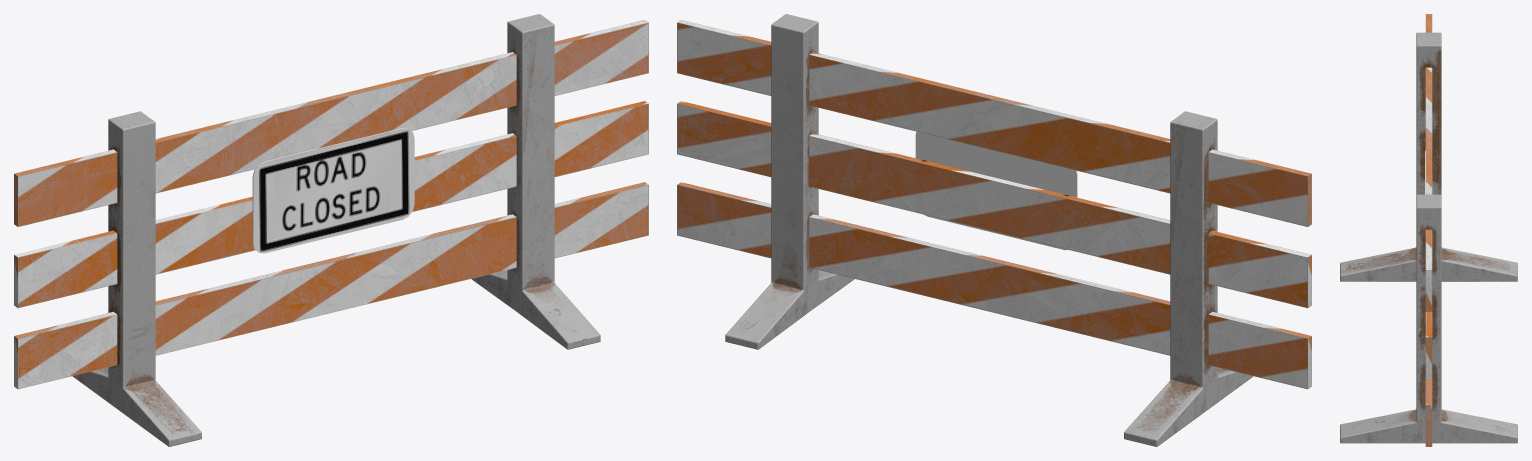
Rendered from road_closed_barrier__game_ready__free_3d_model.glb.
3 views of the same model, side by side, from view 1: azimuth 30°, elevation 25°; view 2: azimuth 150°, elevation 25°; view 3: azimuth 270°, elevation 25° (orthographic). The views are drawn at different scales.
Parts seen in each view (by area): view 1: Cube.002; view 2: Cube.002; view 3: Cube.002.
Boxes of the visible parts, x1,y1,x2,y2 form: Cube.002: (14, 14, 648, 446); Cube.002: (677, 14, 1311, 446); Cube.002: (1340, 14, 1517, 446).
Bounding box in the file's own units: 9.32 × 4.01 × 2.74.
Materials: 1 (1 with a texture image).
